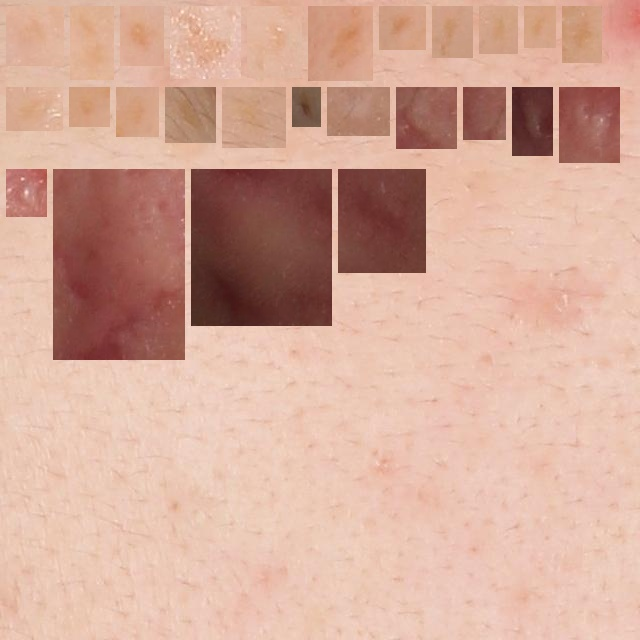hypertrophic_scar: (61, 177, 177, 352), (199, 177, 324, 318), (346, 177, 418, 265), (567, 95, 612, 155), (404, 95, 449, 141), (335, 95, 382, 128), (520, 95, 545, 148), (471, 95, 498, 132), (14, 177, 39, 209)
melasma: (178, 14, 233, 71), (316, 14, 365, 73), (255, 14, 294, 70), (230, 95, 278, 140), (14, 14, 56, 58), (78, 14, 106, 72), (173, 95, 208, 135), (128, 14, 156, 58), (14, 95, 55, 123), (570, 14, 594, 55), (124, 95, 151, 129), (440, 14, 465, 50), (387, 14, 418, 42), (487, 14, 510, 46), (77, 95, 102, 119), (532, 14, 548, 40)
nevus: (300, 95, 313, 119)
